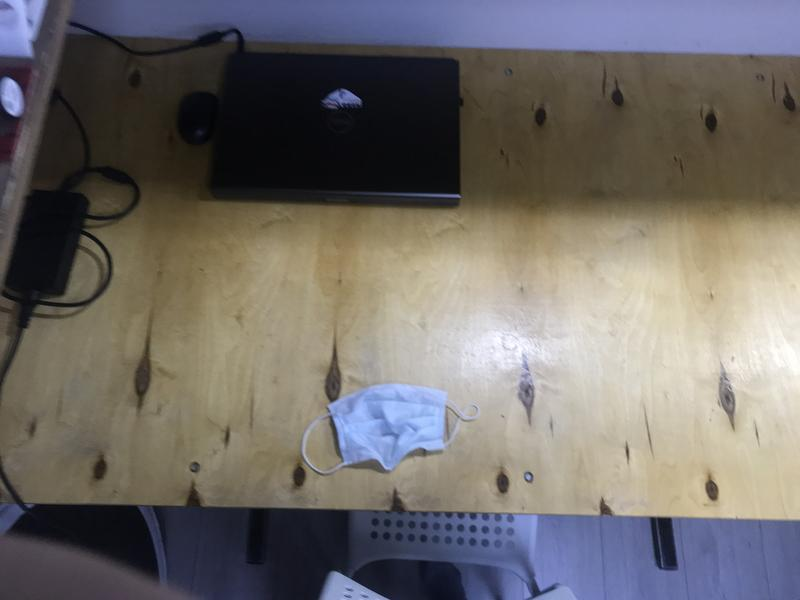medical_mask: (301, 384, 479, 474)
